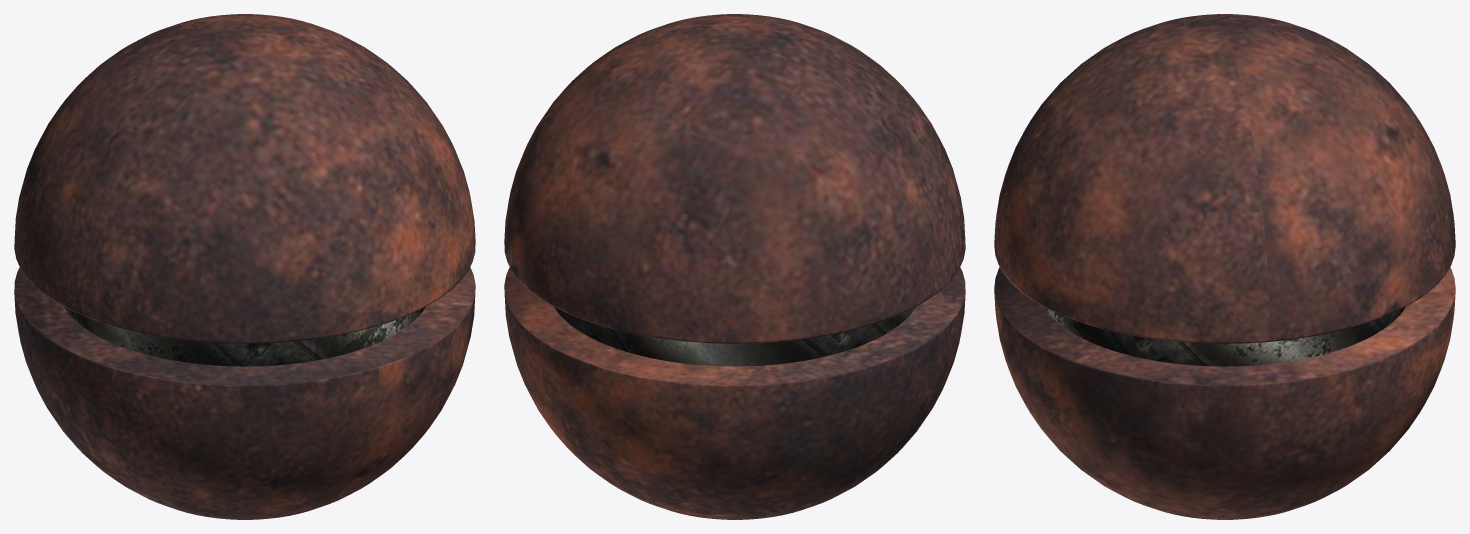
File: droid_anim_000009.obj
3 views of the same model, side by side, from view 1: azimuth 30°, elevation 25°; view 2: azimuth 150°, elevation 25°; view 3: azimuth 270°, elevation 25° (orthographic).
Visible parts, largest first — view 1: Sphere.004, Sphere.005, Cylinder.002; view 2: Sphere.004, Sphere.005, Cylinder.002; view 3: Sphere.004, Sphere.005, Cylinder.002.
Part boxes in pixels (box(x1,y1,x2,y2)): Sphere.004: box(14, 14, 475, 343); Sphere.005: box(14, 267, 475, 519); Cylinder.002: box(64, 307, 425, 366); Sphere.004: box(504, 14, 965, 343); Sphere.005: box(504, 267, 965, 519); Cylinder.002: box(554, 307, 915, 366); Sphere.004: box(994, 14, 1455, 343); Sphere.005: box(994, 267, 1455, 519); Cylinder.002: box(1044, 307, 1405, 366).
Bounding box in the file's own units: 2 × 2.21 × 2.
3 materials, 3 textured.
